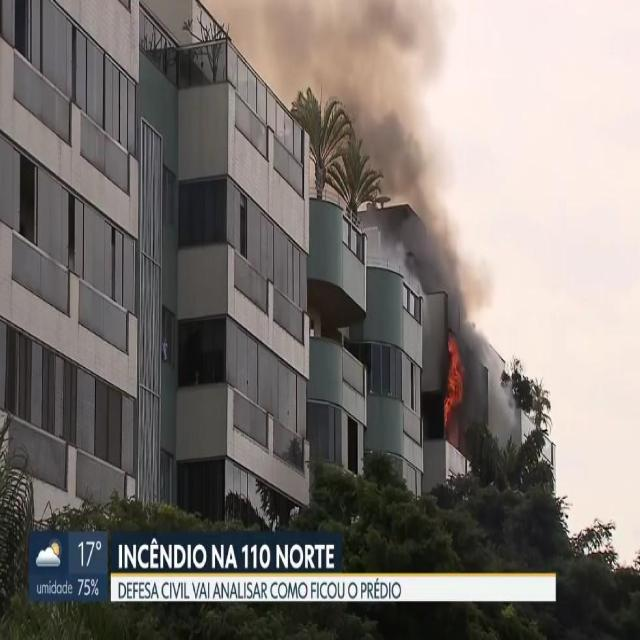Fire: (442, 334, 465, 434)
